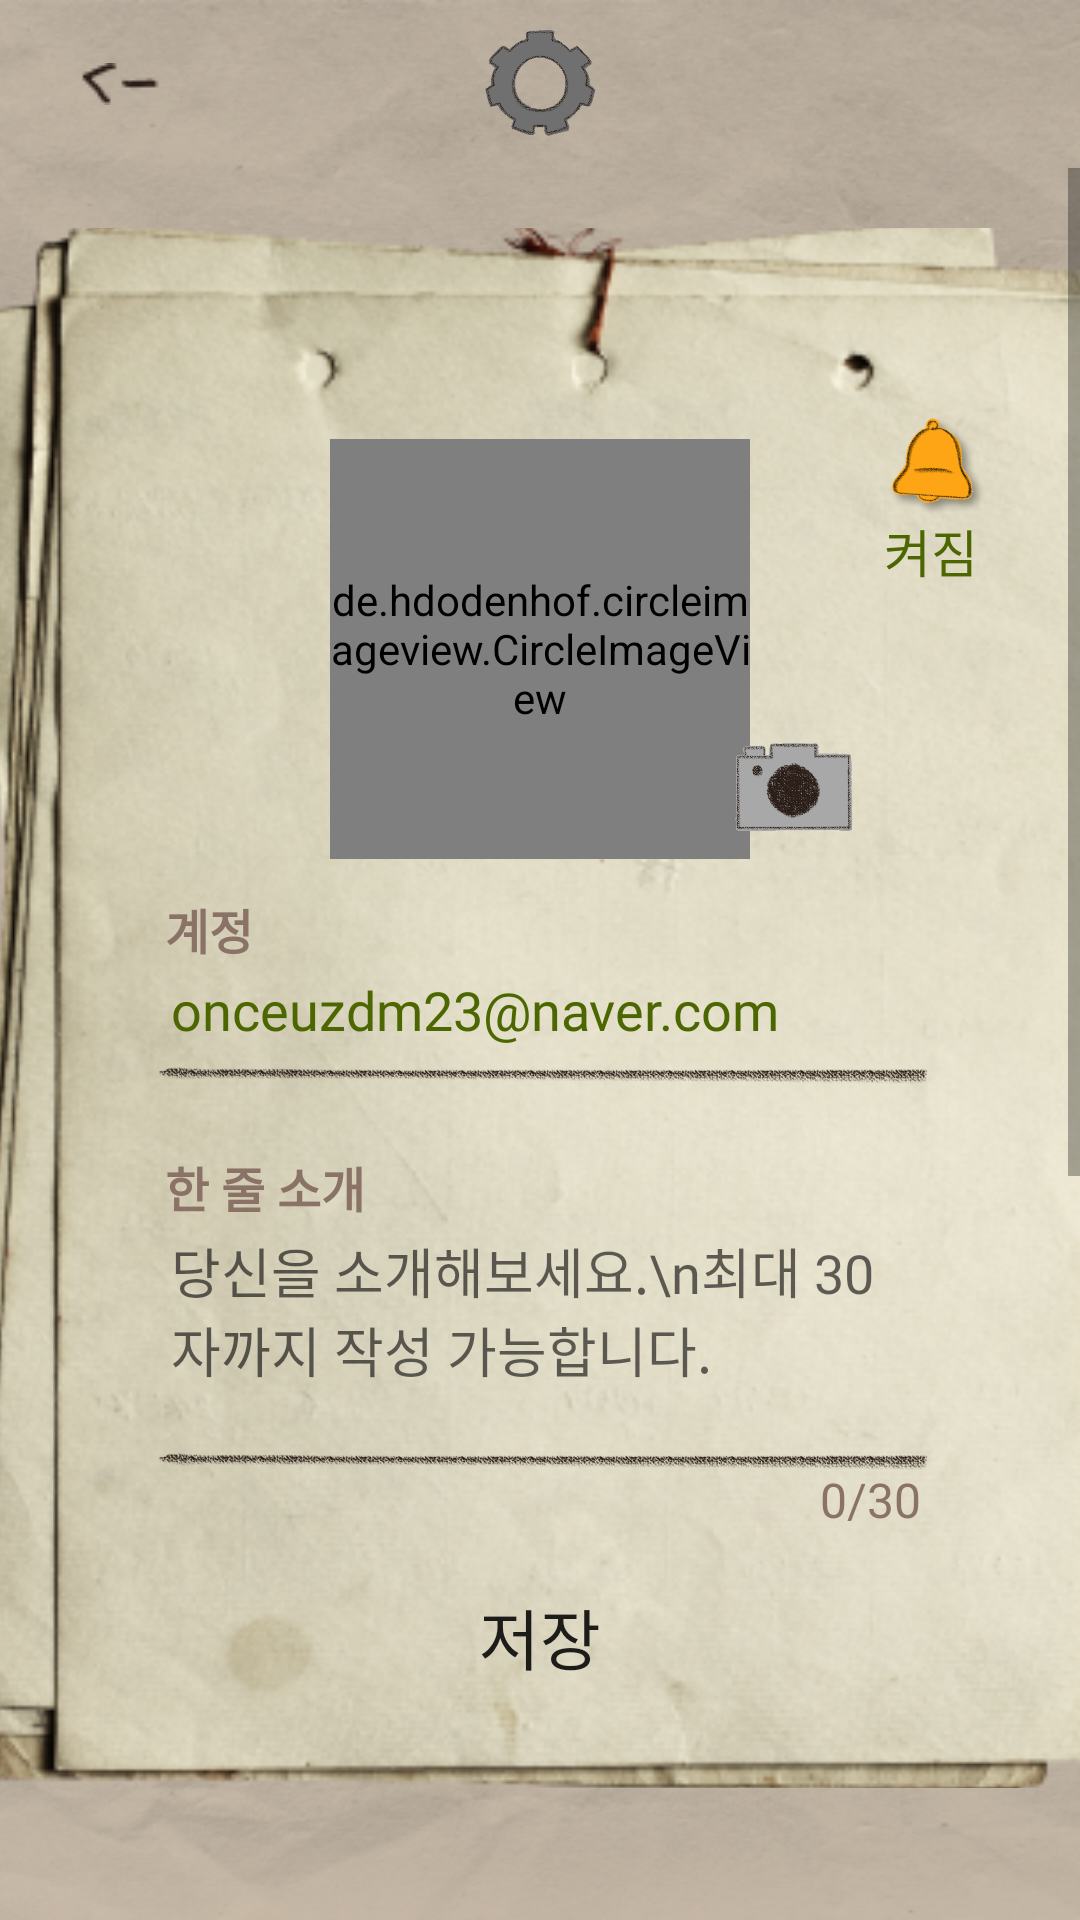

Icons on this 1080x1920 Android screen, each with the point to tap as [x,y]:
alaram: [935,464]
camera: [793,783]
leftarrow: [120,84]
setting: [540,83]
